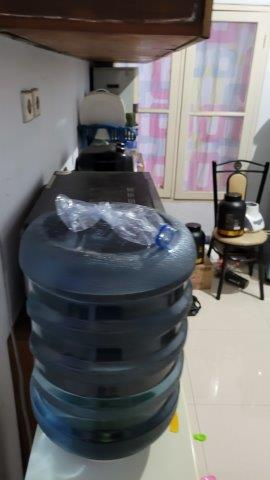botolplastik: (54, 194, 177, 248)
